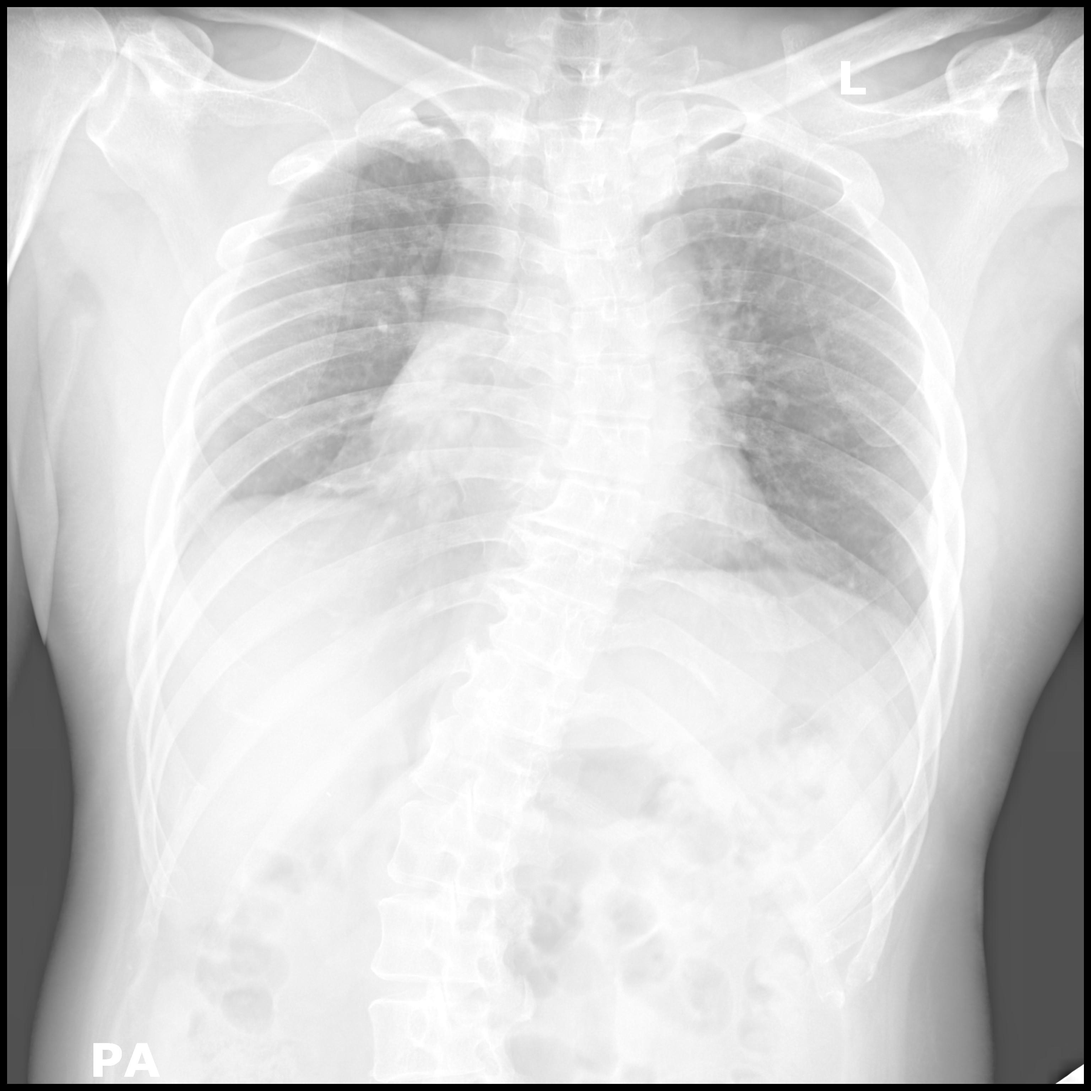Aortic enlargement: (558, 198, 697, 325)
Cardiomegaly: (367, 371, 774, 574)
Pleural thickening: (387, 86, 530, 124)
